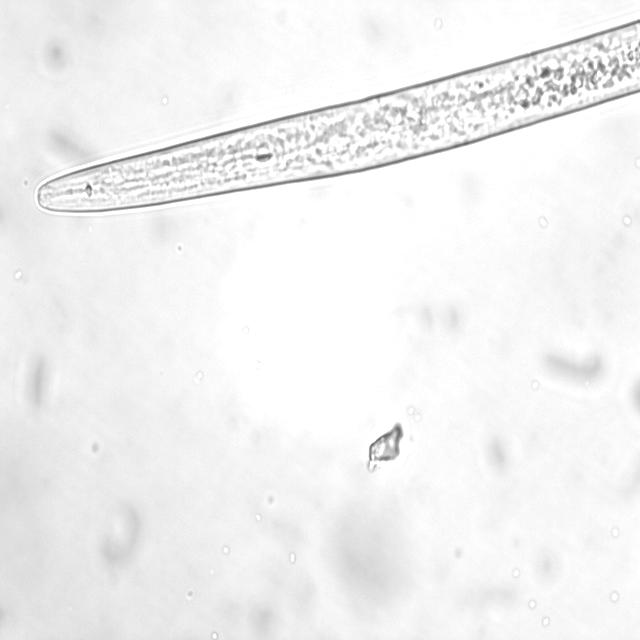Meloidogyne: (32, 11, 640, 217)
